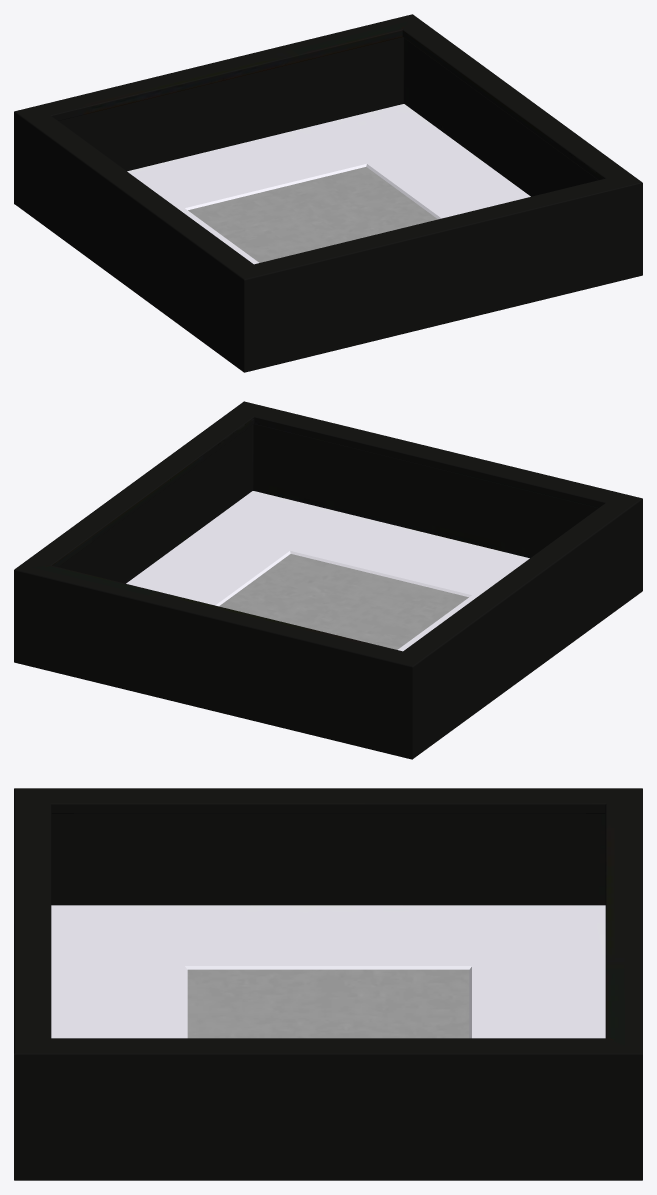
Rendered from frame-small.glb.
The picture shows the model from 3 angles, top to bottom: view 1: azimuth 30°, elevation 25°; view 2: azimuth 150°, elevation 25°; view 3: azimuth 270°, elevation 25°; orthographic projection. The views are drawn at different scales.
Visible parts, largest first — view 1: 1, 2; view 2: 1, 2; view 3: 1, 2.
Part boxes in pixels (<box>): 1: <box>14,14,642,372</box>; 2: <box>188,166,437,262</box>; 1: <box>14,401,642,759</box>; 2: <box>219,553,468,649</box>; 1: <box>14,788,642,1180</box>; 2: <box>187,969,469,1038</box>.
Size of the model in its own units: 0.268 by 0.0601 by 0.268.
Materials: 2 (2 with a texture image).
